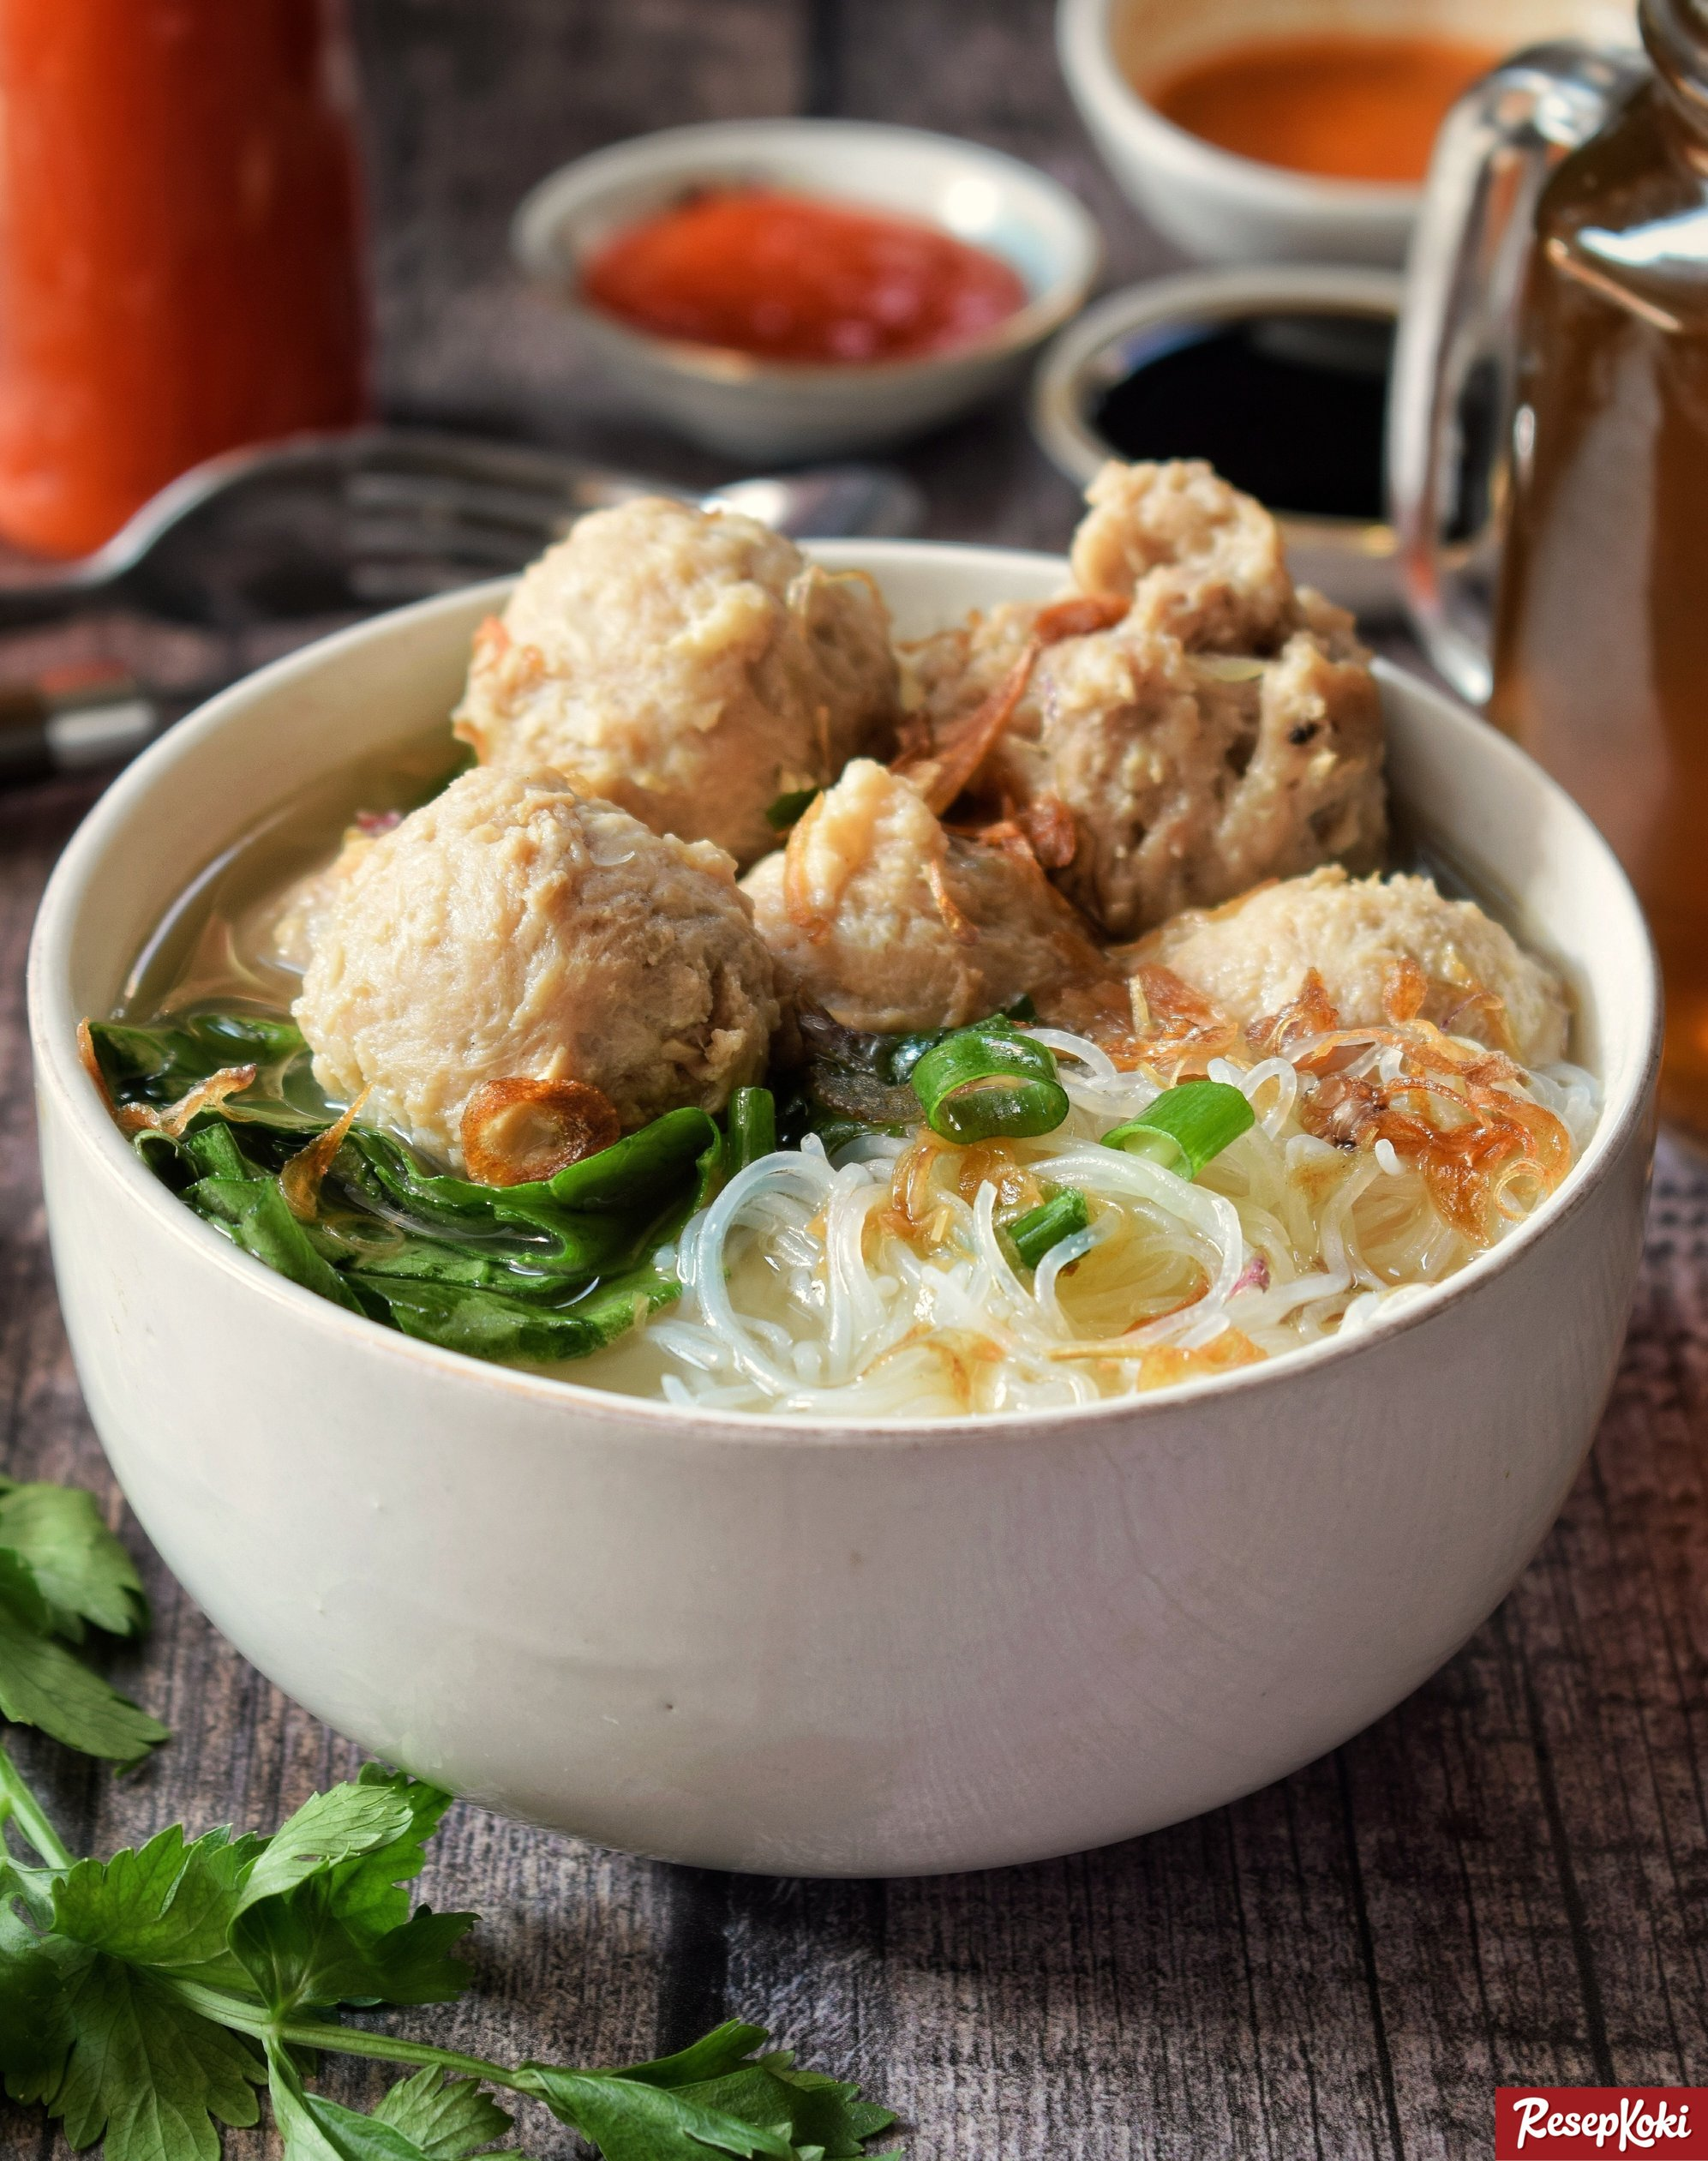bakso: (233, 433, 1631, 1477)
